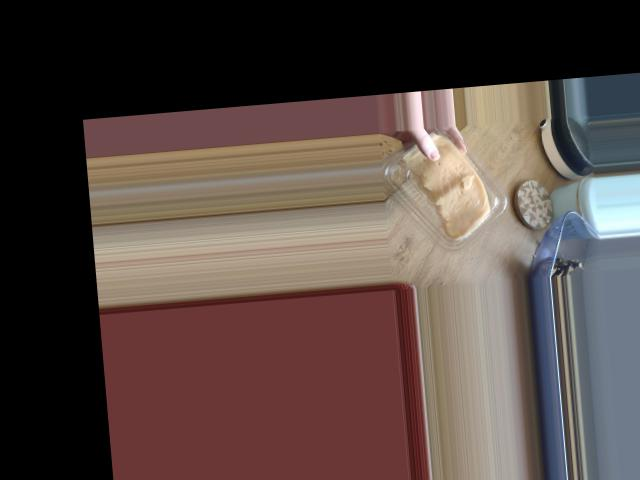cheese: (383, 131, 522, 270)
